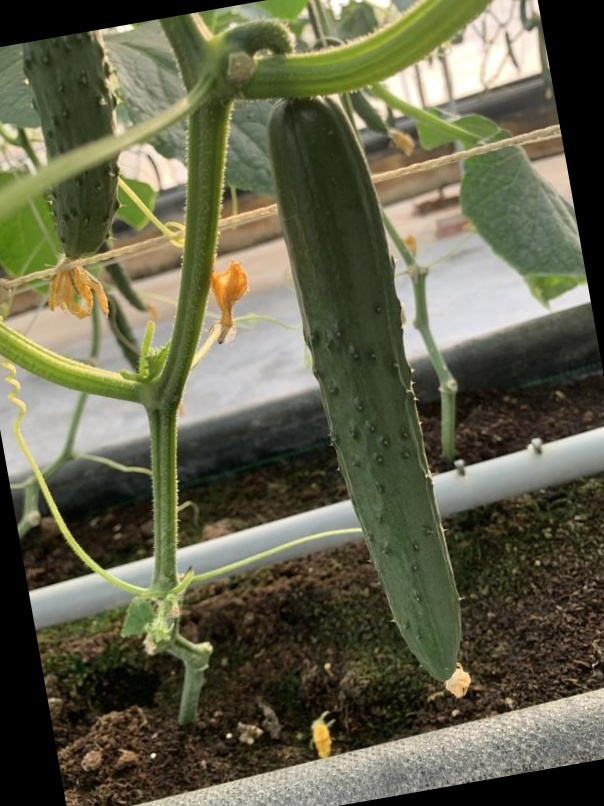mature: (251, 115, 478, 666)
